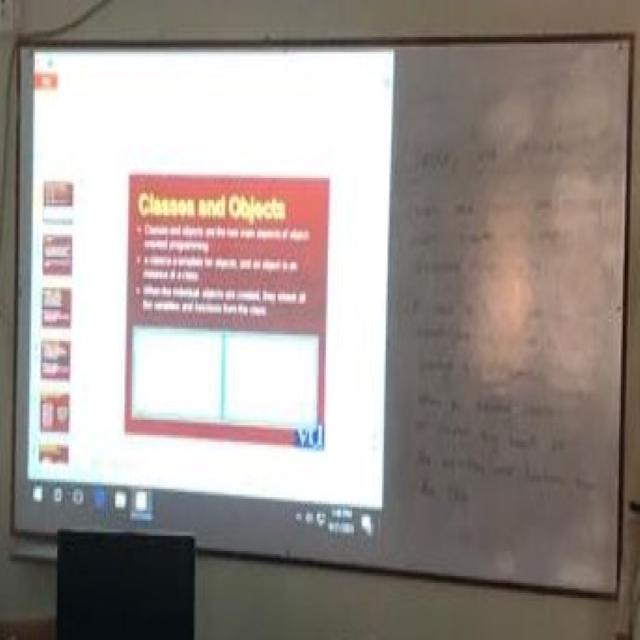Slide: (26, 49, 392, 547)
White-board: (12, 37, 630, 605)
